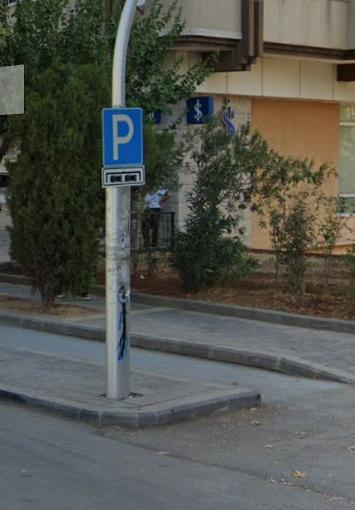park: (102, 109, 145, 165)
